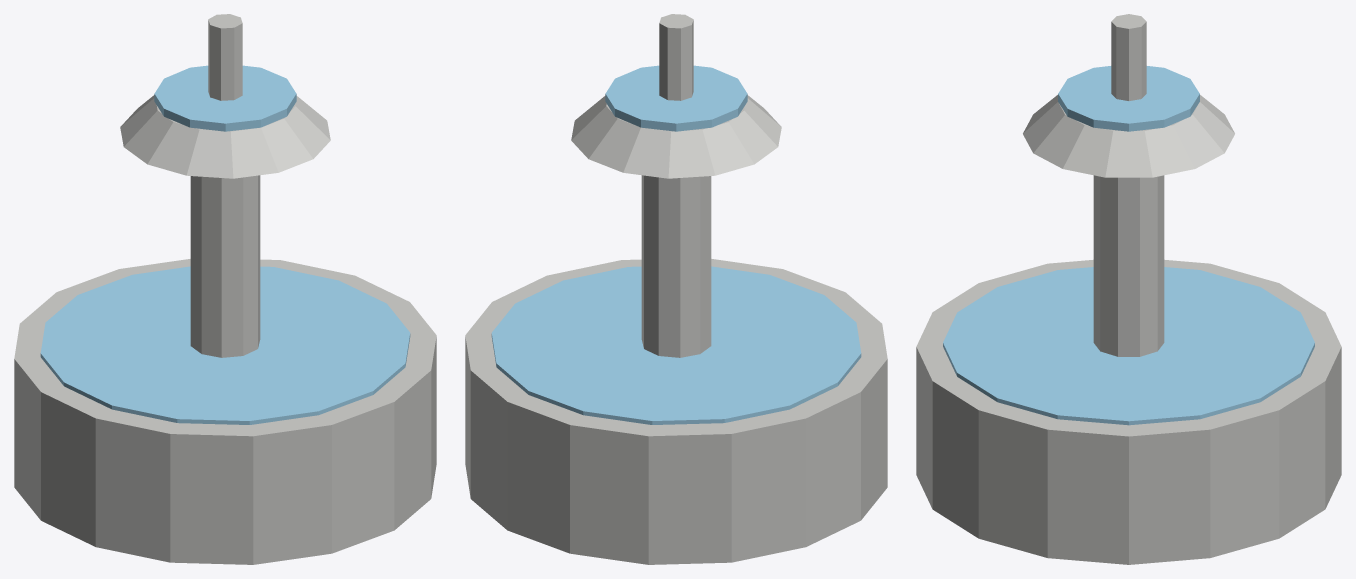
File: fountain.glb
3 views of the same model, side by side, from view 1: azimuth 30°, elevation 25°; view 2: azimuth 150°, elevation 25°; view 3: azimuth 270°, elevation 25° (orthographic).
Parts seen in each view (by area): view 1: fountain; view 2: fountain; view 3: fountain.
Part boxes in pixels (left/top/right/bottom): fountain: left=14, top=14, right=436, bottom=564; fountain: left=465, top=14, right=887, bottom=564; fountain: left=916, top=14, right=1341, bottom=564.
Bounding box in the file's own units: 0.96 × 1.13 × 0.96.
